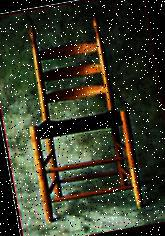Silla: (11, 15, 141, 224)
